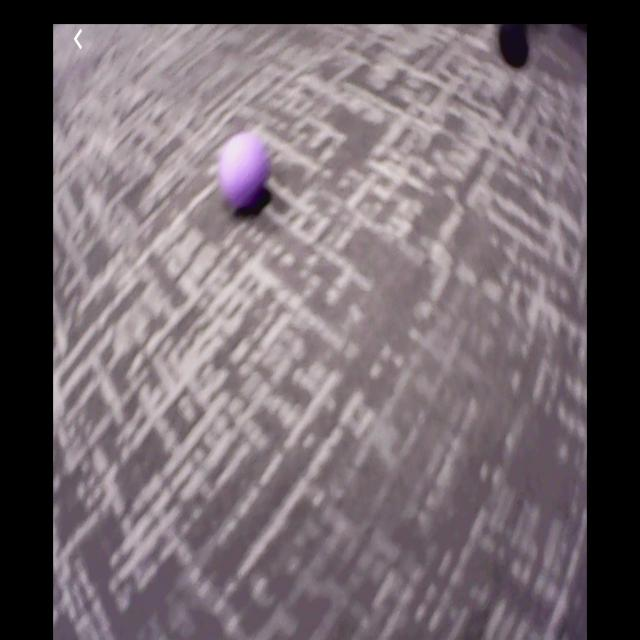ball: (223, 134, 268, 204)
